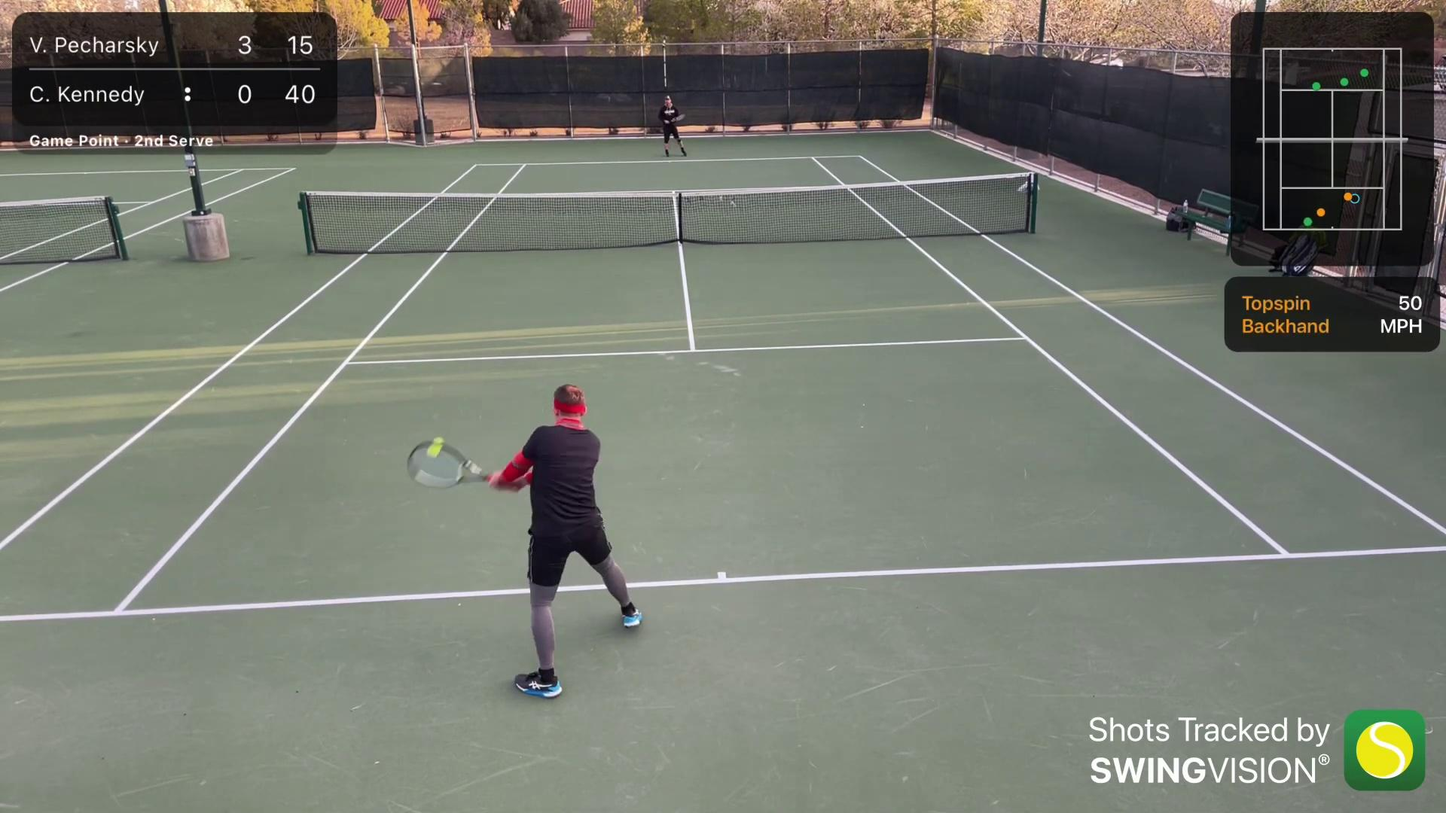ball: (425, 433, 447, 460)
